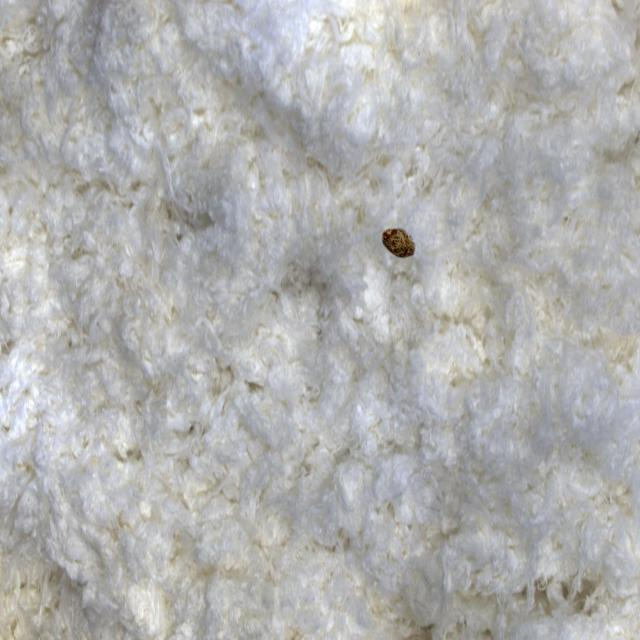dust: (372, 198, 436, 297)
